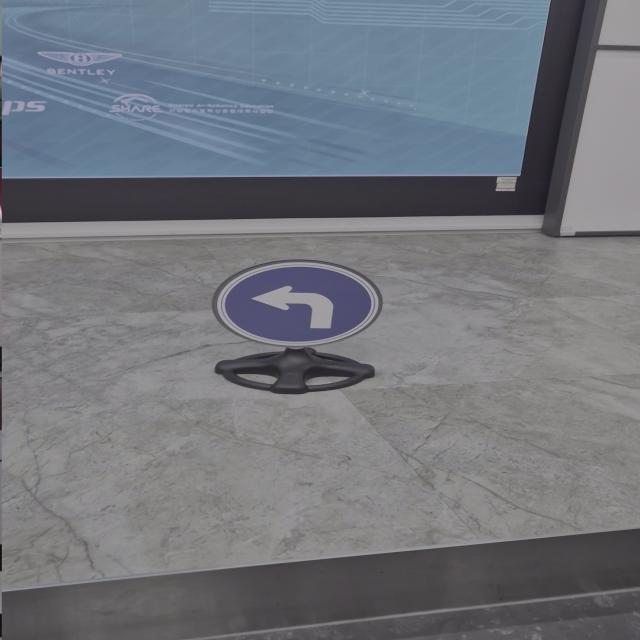left_direction: (214, 256, 386, 349)
